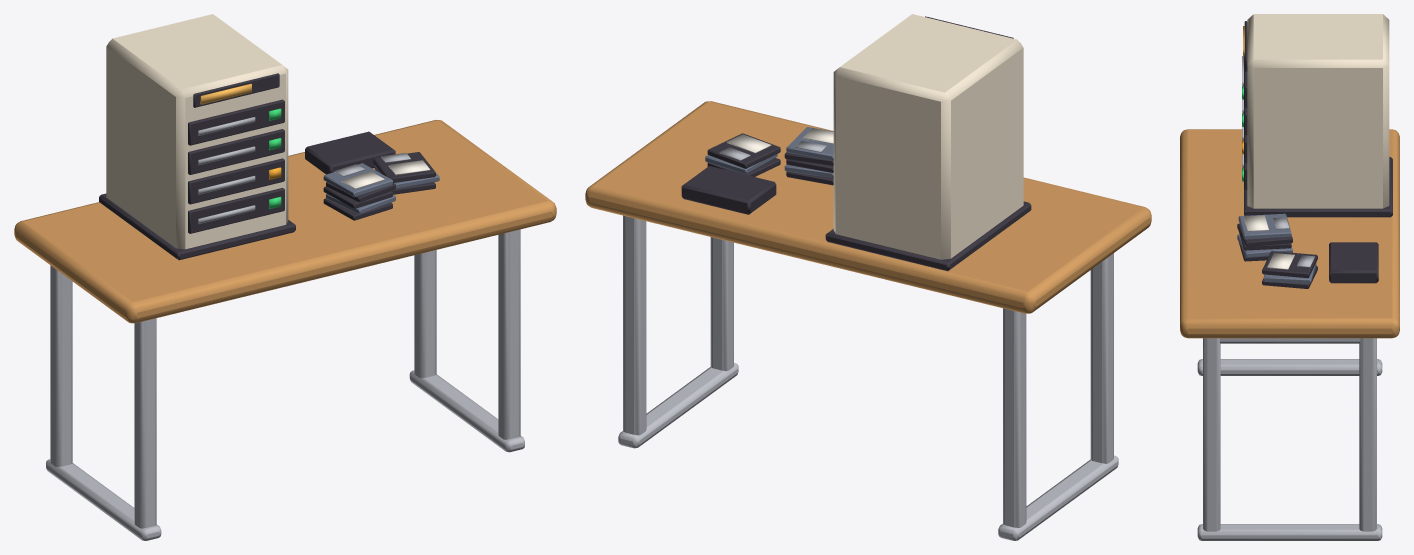
Rendered from disk_duplicator_l1.glb.
The picture shows the model from 3 angles, left to right: view 1: azimuth 30°, elevation 25°; view 2: azimuth 150°, elevation 25°; view 3: azimuth 270°, elevation 25°; orthographic projection. The views are drawn at different scales.
Parts seen in each view (by area): view 1: disk_duplicator_l1; view 2: disk_duplicator_l1; view 3: disk_duplicator_l1.
Part boxes in pixels (<box>): disk_duplicator_l1: <box>14,14,556,540</box>; disk_duplicator_l1: <box>585,14,1151,540</box>; disk_duplicator_l1: <box>1180,14,1399,540</box>.
Size of the model in its own units: 1.3 by 1.2 by 0.62.
